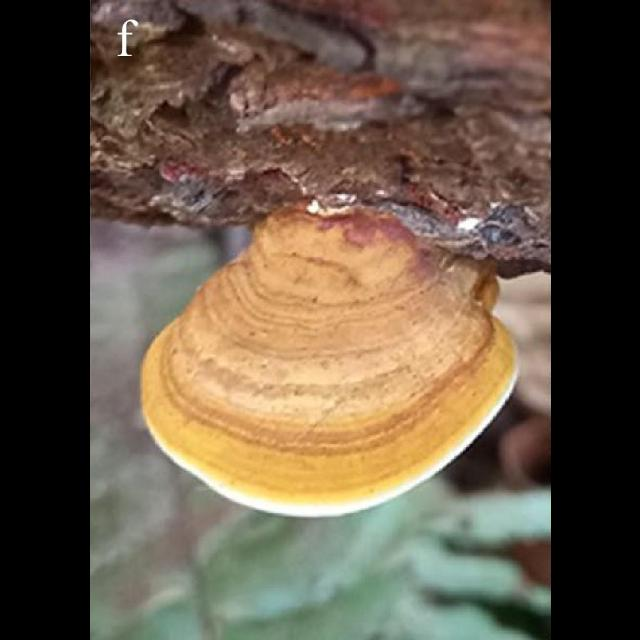ganoderma: (138, 200, 525, 522)
